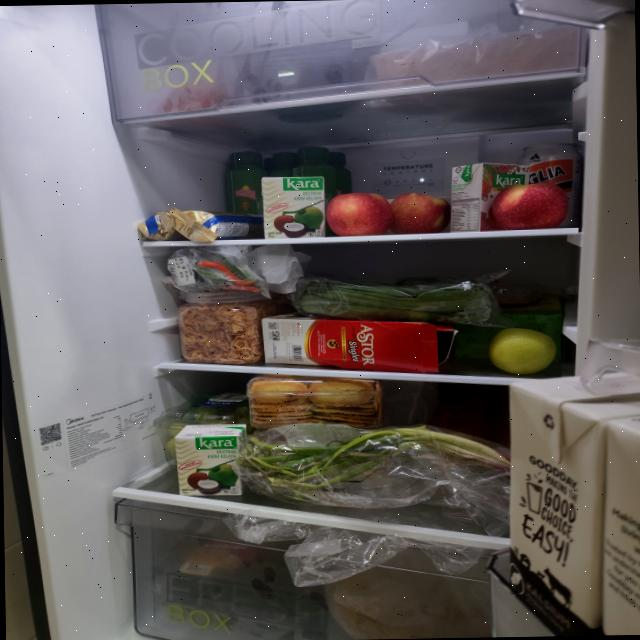apple: (324, 190, 452, 238), (491, 181, 570, 231), (487, 326, 558, 375)
chili: (193, 246, 264, 292)
coconut_milk: (448, 162, 532, 232), (174, 424, 248, 496), (260, 176, 326, 240)
leafy_greens: (296, 274, 492, 329)
spring_onion: (235, 422, 512, 502)
